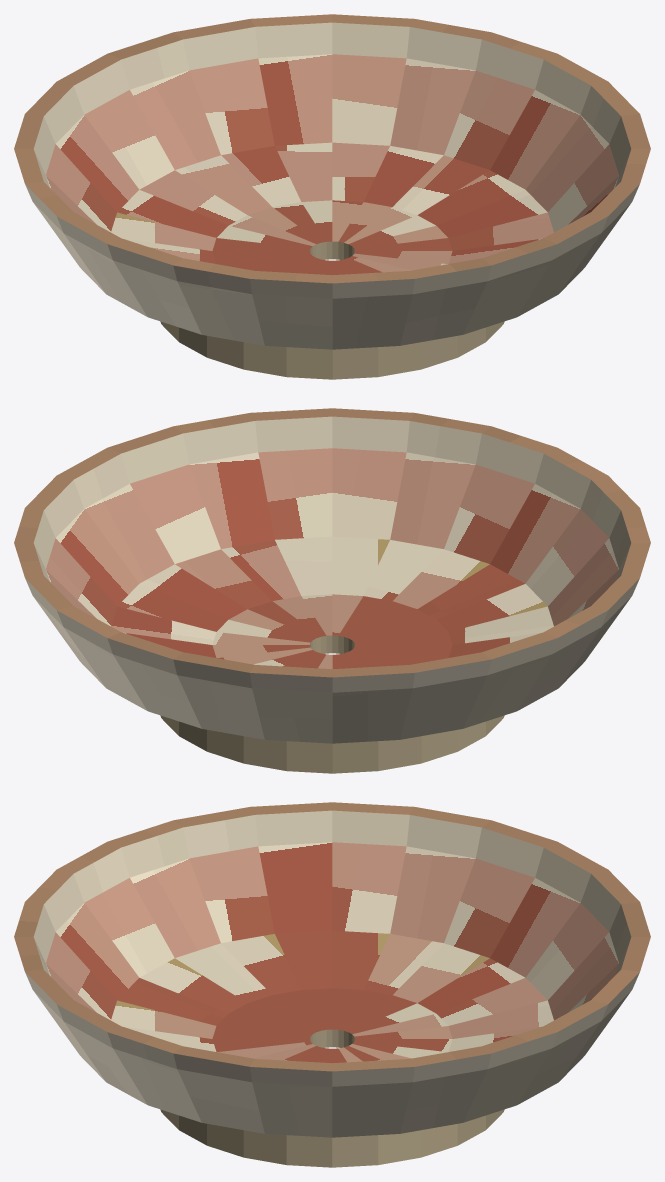
File: antique-kutani-red.glb
The picture shows the model from 3 angles, top to bottom: view 1: azimuth 30°, elevation 25°; view 2: azimuth 150°, elevation 25°; view 3: azimuth 270°, elevation 25°; orthographic projection.
Visible parts, largest first — view 1: antique-kutani-red/ceramic-inner-wall-6, antique-kutani-red/ceramic-inner-lower-7, antique-kutani-red/ceramic-outer-mid-2, antique-kutani-red/ceramic-inner-upper-5, antique-kutani-red/ceramic-rim-4, antique-kutani-red/ceramic-inner-floor-8, antique-kutani-red/ceramic-outer-upper-3, antique-kutani-red/ceramic-foot-outer-1, antique-kutani-red/ceramic-drainage-wall-9; view 2: antique-kutani-red/ceramic-inner-wall-6, antique-kutani-red/ceramic-inner-lower-7, antique-kutani-red/ceramic-outer-mid-2, antique-kutani-red/ceramic-inner-upper-5, antique-kutani-red/ceramic-rim-4, antique-kutani-red/ceramic-inner-floor-8, antique-kutani-red/ceramic-outer-upper-3, antique-kutani-red/ceramic-foot-outer-1, antique-kutani-red/ceramic-drainage-wall-9; view 3: antique-kutani-red/ceramic-inner-wall-6, antique-kutani-red/ceramic-inner-lower-7, antique-kutani-red/ceramic-outer-mid-2, antique-kutani-red/ceramic-inner-upper-5, antique-kutani-red/ceramic-rim-4, antique-kutani-red/ceramic-inner-floor-8, antique-kutani-red/ceramic-outer-upper-3, antique-kutani-red/ceramic-foot-outer-1, antique-kutani-red/ceramic-drainage-wall-9.
Part boxes in pixels (left/top/right/bottom): antique-kutani-red/ceramic-inner-wall-6: left=46, top=54, right=618, bottom=232; antique-kutani-red/ceramic-inner-lower-7: left=111, top=142, right=553, bottom=263; antique-kutani-red/ceramic-outer-mid-2: left=34, top=203, right=630, bottom=349; antique-kutani-red/ceramic-inner-upper-5: left=33, top=22, right=631, bottom=186; antique-kutani-red/ceramic-rim-4: left=14, top=14, right=650, bottom=283; antique-kutani-red/ceramic-inner-floor-8: left=212, top=200, right=452, bottom=275; antique-kutani-red/ceramic-outer-upper-3: left=25, top=184, right=639, bottom=298; antique-kutani-red/ceramic-foot-outer-1: left=160, top=321, right=504, bottom=379; antique-kutani-red/ceramic-drainage-wall-9: left=310, top=241, right=354, bottom=259; antique-kutani-red/ceramic-inner-wall-6: left=46, top=448, right=618, bottom=626; antique-kutani-red/ceramic-inner-lower-7: left=111, top=536, right=553, bottom=657; antique-kutani-red/ceramic-outer-mid-2: left=34, top=597, right=630, bottom=743; antique-kutani-red/ceramic-inner-upper-5: left=33, top=416, right=631, bottom=580; antique-kutani-red/ceramic-rim-4: left=14, top=408, right=650, bottom=677; antique-kutani-red/ceramic-inner-floor-8: left=212, top=594, right=452, bottom=669; antique-kutani-red/ceramic-outer-upper-3: left=25, top=578, right=639, bottom=692; antique-kutani-red/ceramic-foot-outer-1: left=160, top=715, right=504, bottom=773; antique-kutani-red/ceramic-drainage-wall-9: left=310, top=635, right=354, bottom=653; antique-kutani-red/ceramic-inner-wall-6: left=46, top=842, right=618, bottom=1020; antique-kutani-red/ceramic-inner-lower-7: left=111, top=930, right=553, bottom=1051; antique-kutani-red/ceramic-outer-mid-2: left=34, top=991, right=630, bottom=1137; antique-kutani-red/ceramic-inner-upper-5: left=33, top=810, right=631, bottom=974; antique-kutani-red/ceramic-rim-4: left=14, top=802, right=650, bottom=1071; antique-kutani-red/ceramic-inner-floor-8: left=212, top=988, right=452, bottom=1063; antique-kutani-red/ceramic-outer-upper-3: left=25, top=972, right=639, bottom=1086; antique-kutani-red/ceramic-foot-outer-1: left=160, top=1109, right=504, bottom=1167; antique-kutani-red/ceramic-drainage-wall-9: left=310, top=1029, right=354, bottom=1047.
Bounding box in the file's own units: 0.875 × 0.2362 × 0.875.
Materials: 4 (4 with a texture image).
